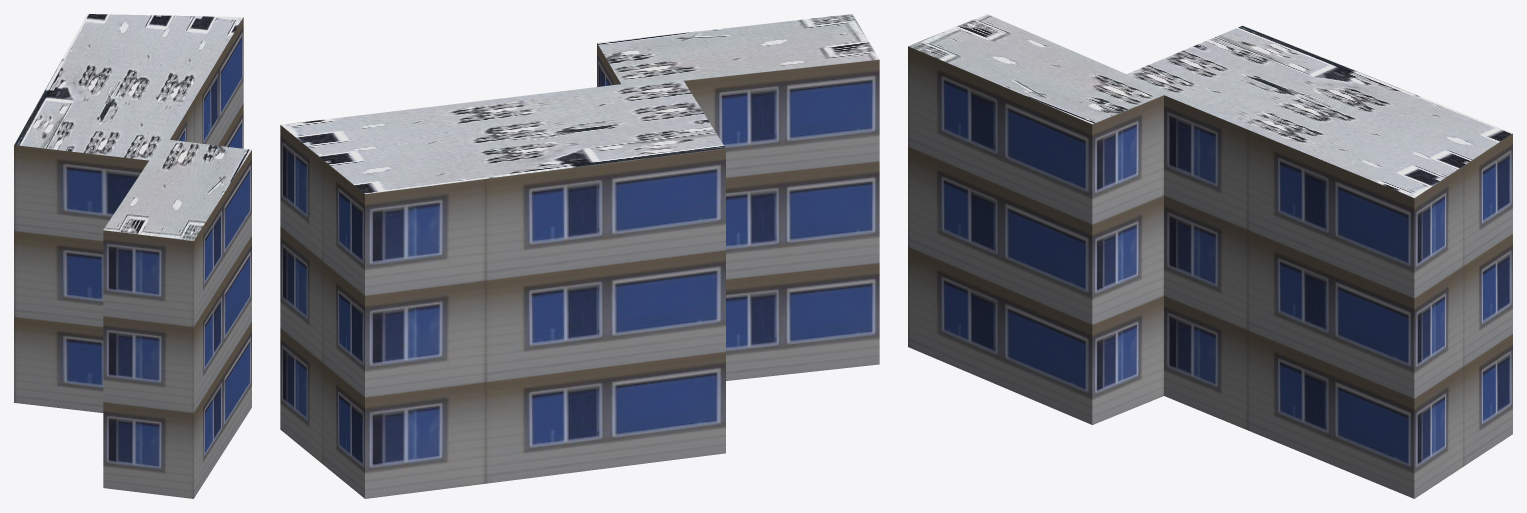
File: ResTex__4680.fbx
The picture shows the model from 3 angles, left to right: view 1: azimuth 30°, elevation 25°; view 2: azimuth 150°, elevation 25°; view 3: azimuth 270°, elevation 25°; orthographic projection. The views are drawn at different scales.
Visible parts, largest first — view 1: CityEngineMaterial_23_m, CityEngineMaterial_4_m; view 2: CityEngineMaterial_23_m, CityEngineMaterial_4_m; view 3: CityEngineMaterial_23_m, CityEngineMaterial_4_m.
Part boxes in pixels (box(x1,y1,x2,y2)): CityEngineMaterial_23_m: box(14, 17, 251, 498); CityEngineMaterial_4_m: box(14, 14, 251, 240); CityEngineMaterial_23_m: box(280, 43, 879, 498); CityEngineMaterial_4_m: box(280, 14, 879, 193); CityEngineMaterial_23_m: box(908, 46, 1512, 498); CityEngineMaterial_4_m: box(908, 14, 1512, 197).
Bounding box in the file's own units: 11.82 × 9 × 16.4.
Materials: 2 (2 with a texture image).
